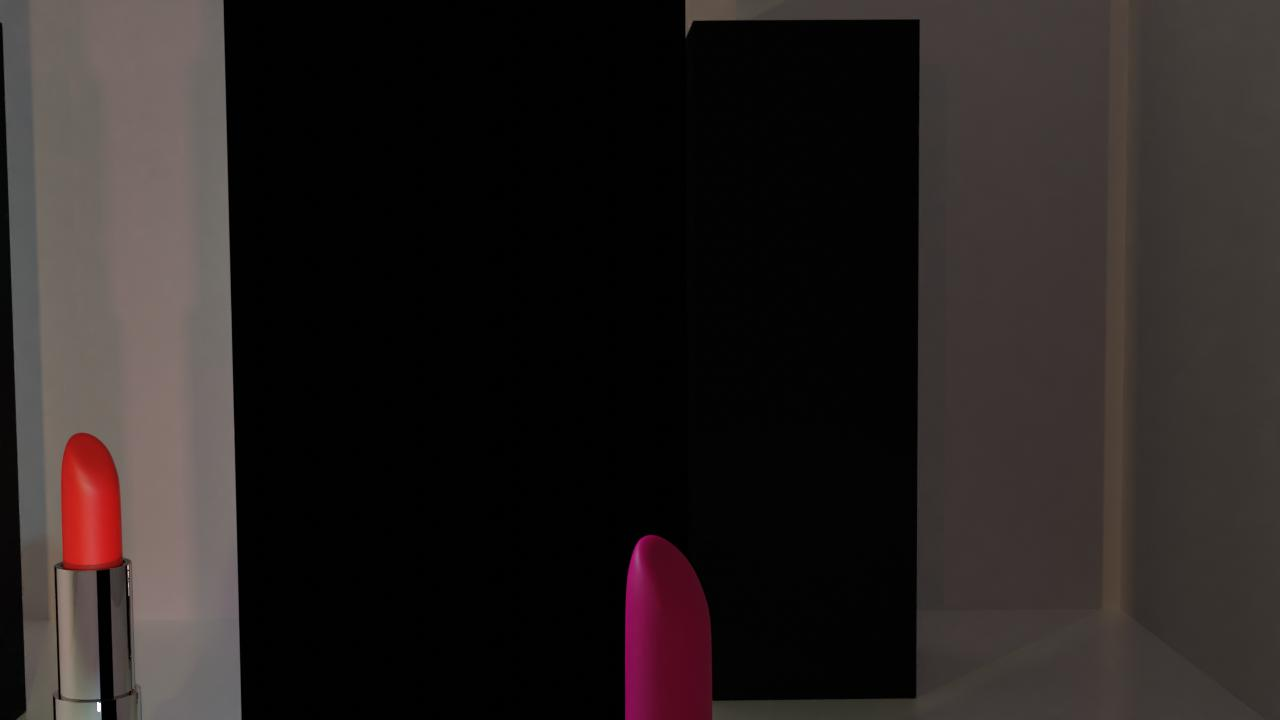CLASSIFIER_NAME: (51, 427, 149, 720), (606, 527, 737, 720)
